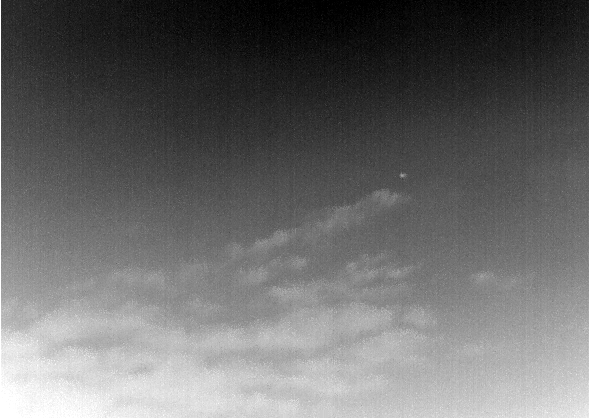dim target: (398, 172, 407, 179)
